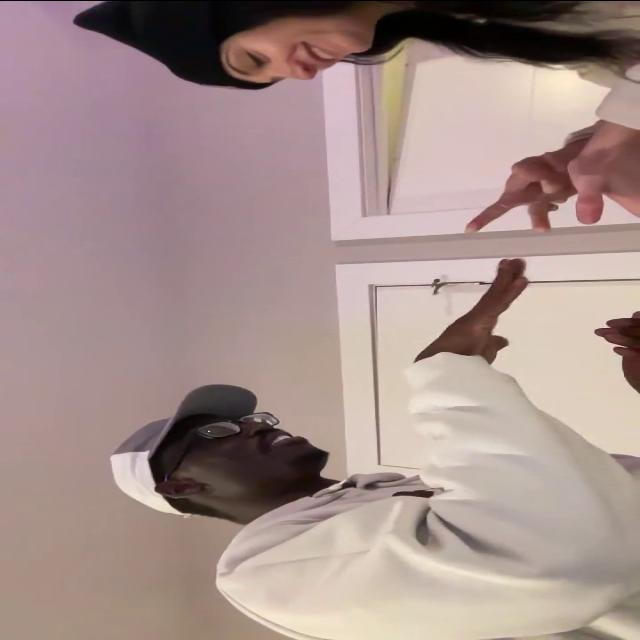Paper: (410, 256, 550, 366), (464, 150, 586, 232)
